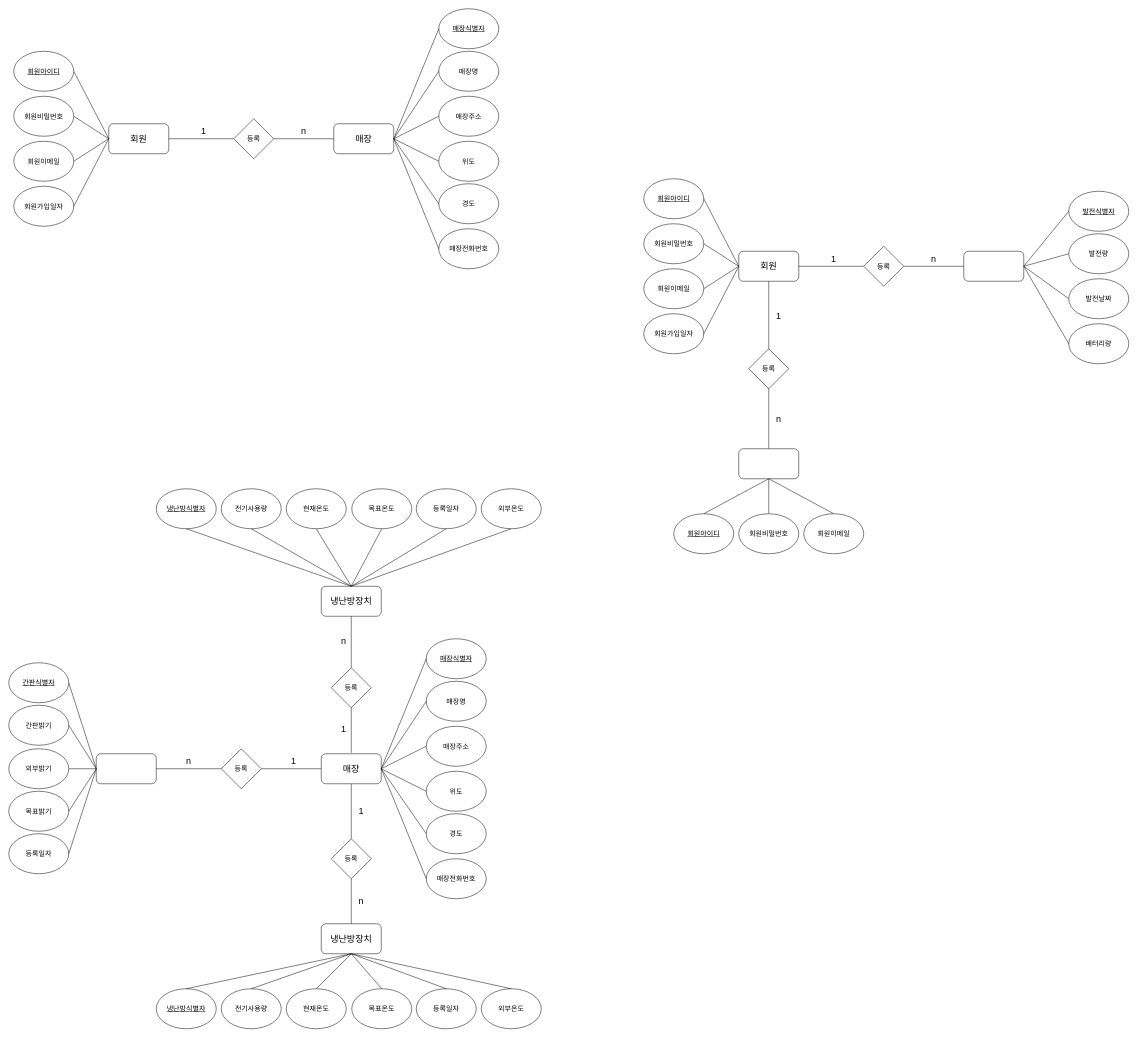
Some shapes in this 1138 by 1038 pixel diagram are drawn without their labels. Each missing label, with the centre of its shape:
"간판" belongs at point 126,768.
"전기소비" belongs at point 768,463.
"태양광발전량" belongs at point 993,266.
